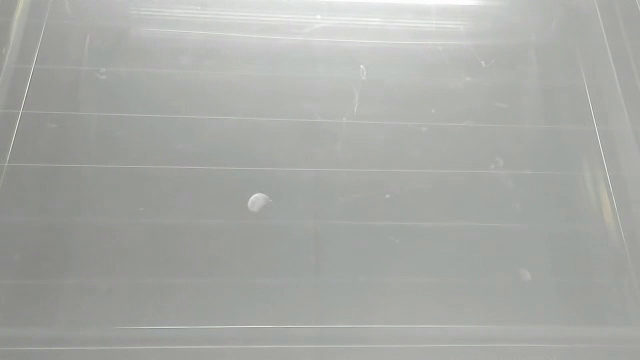alpha: (244, 188, 280, 217)
